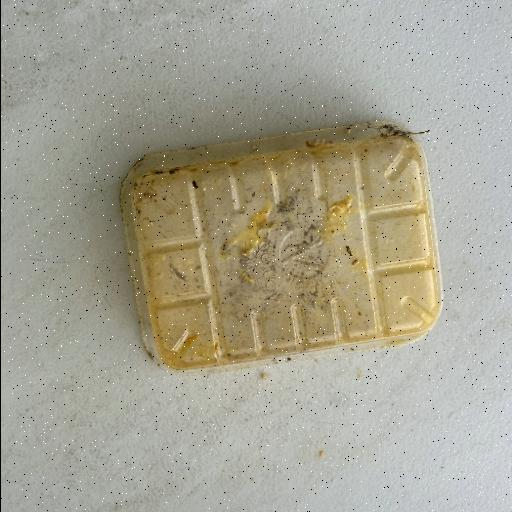Plastic: (117, 118, 445, 374)
